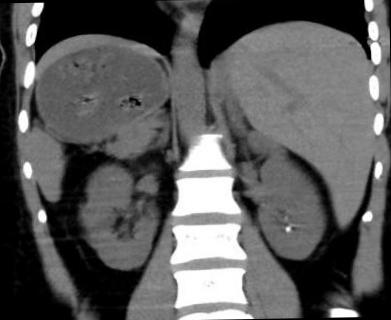Tas_Var: (282, 226, 292, 233)
